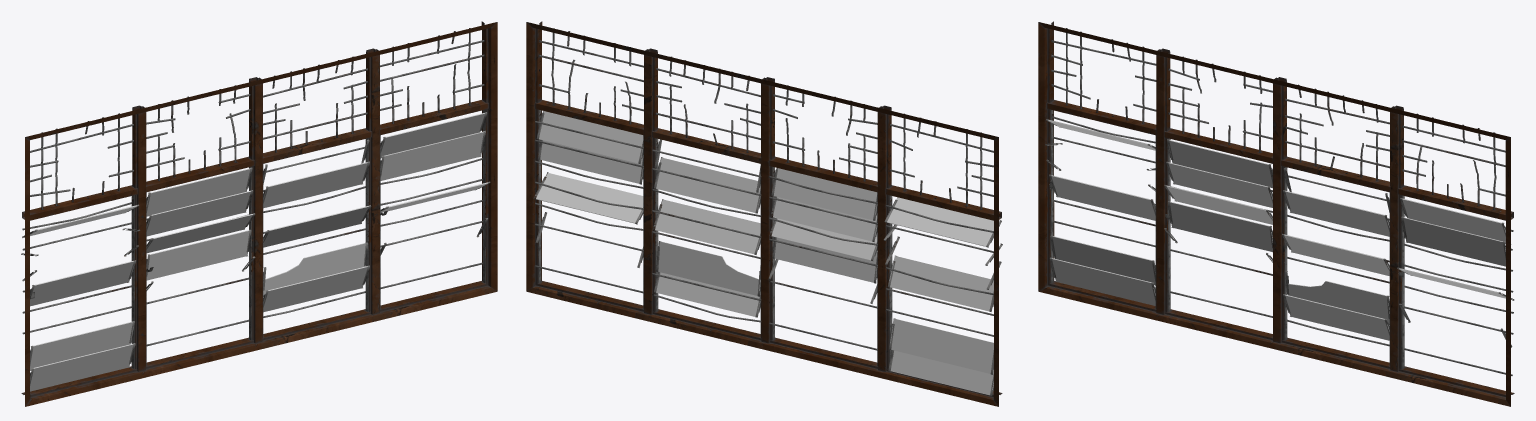
Rendered from 333_windowframe_4.FBX.
3 views of the same model, side by side, from view 1: azimuth 30°, elevation 25°; view 2: azimuth 150°, elevation 25°; view 3: azimuth 330°, elevation 25° (orthographic).
Parts seen in each view (by area): view 1: 333_windowframe_4; view 2: 333_windowframe_4; view 3: 333_windowframe_4.
Boxes of the visible parts, x1=… form: 333_windowframe_4: x1=21, y1=21, x2=497, y2=406; 333_windowframe_4: x1=526, y1=21, x2=1002, y2=406; 333_windowframe_4: x1=1038, y1=21, x2=1514, y2=406.
Bounding box in the file's own units: 351 × 192 × 19.72.
